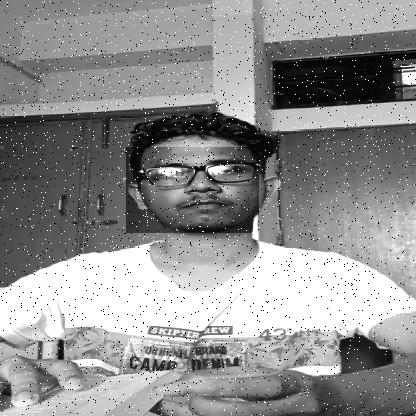Normal: (126, 148, 259, 233)
